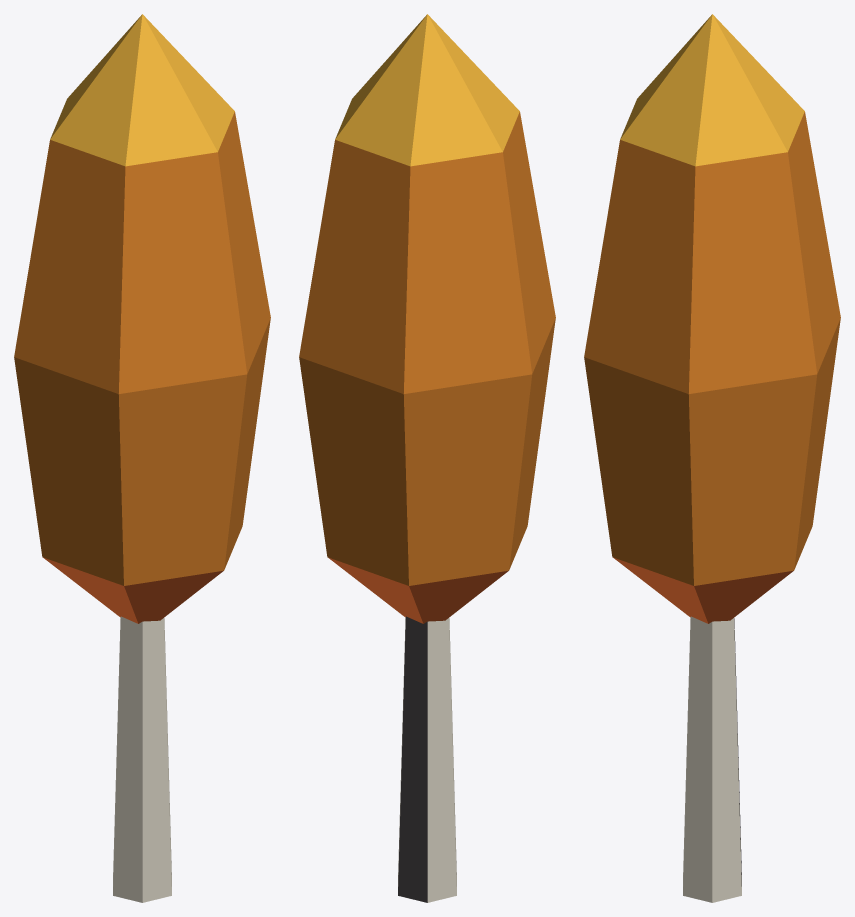
Rendered from tree_simple_fall.glb.
3 views of the same model, side by side, from view 1: azimuth 30°, elevation 25°; view 2: azimuth 150°, elevation 25°; view 3: azimuth 270°, elevation 25° (orthographic).
Visible parts, largest first — view 1: tree_simple_fall; view 2: tree_simple_fall; view 3: tree_simple_fall.
Part boxes in pixels (bbox=[...]): tree_simple_fall: bbox=[14, 14, 270, 902]; tree_simple_fall: bbox=[299, 14, 555, 902]; tree_simple_fall: bbox=[584, 14, 840, 902].
Size of the model in its own units: 0.3546 by 1.27 by 0.3382.
Materials: 1 (1 with a texture image).
